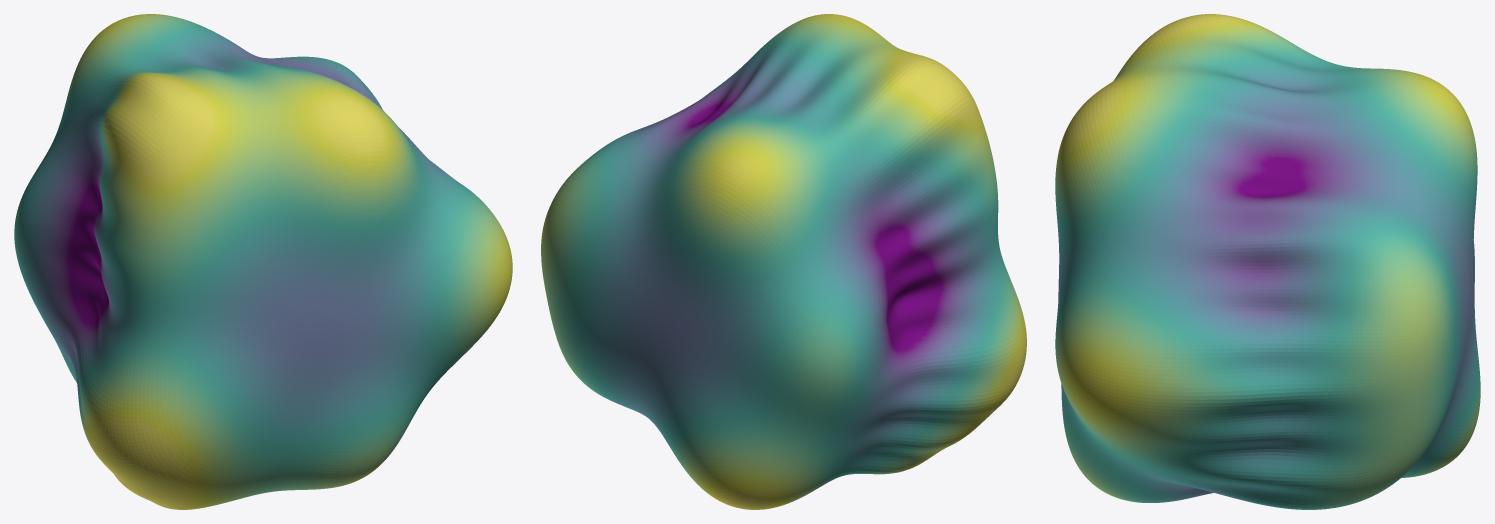
Rendered from Tom_Klootwijk_Manifold_Render.glb.
The picture shows the model from 3 angles, left to right: view 1: azimuth 30°, elevation 25°; view 2: azimuth 150°, elevation 25°; view 3: azimuth 270°, elevation 25°; orthographic projection. The views are drawn at different scales.
Visible parts, largest first — view 1: world; view 2: world; view 3: world.
Part boxes in pixels (box(x1,y1,x2,y2)): world: box(14, 14, 512, 509); world: box(541, 14, 1026, 509); world: box(1055, 14, 1480, 509).
Bounding box in the file's own units: 2.06 × 2.05 × 1.84.
